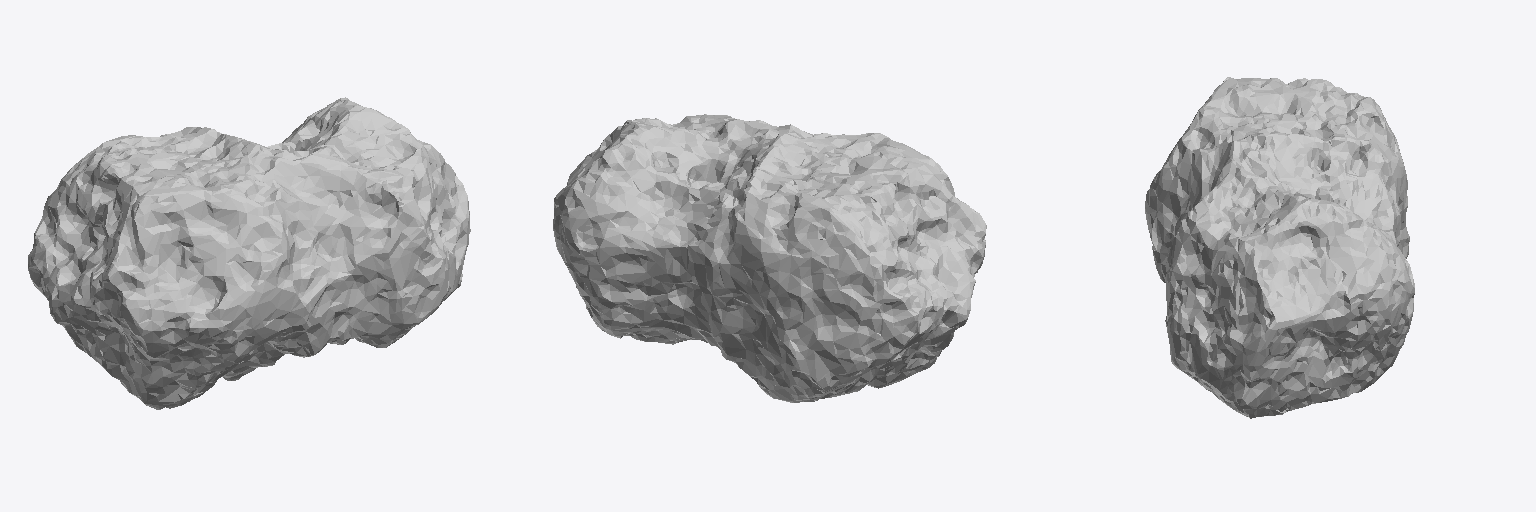
File: Asteroid_3_ULOW_MODEL_.obj
3 views of the same model, side by side, from view 1: azimuth 30°, elevation 25°; view 2: azimuth 150°, elevation 25°; view 3: azimuth 270°, elevation 25° (orthographic).
Parts seen in each view (by area): view 1: Asteroid_3_LOW_MODEL__Cube.001; view 2: Asteroid_3_LOW_MODEL__Cube.001; view 3: Asteroid_3_LOW_MODEL__Cube.001.
Part boxes in pixels (bbox=[...]): Asteroid_3_LOW_MODEL__Cube.001: bbox=[28, 97, 470, 409]; Asteroid_3_LOW_MODEL__Cube.001: bbox=[553, 114, 986, 402]; Asteroid_3_LOW_MODEL__Cube.001: bbox=[1145, 77, 1414, 418].
Bounding box in the file's own units: 3.68 × 2.06 × 2.13.